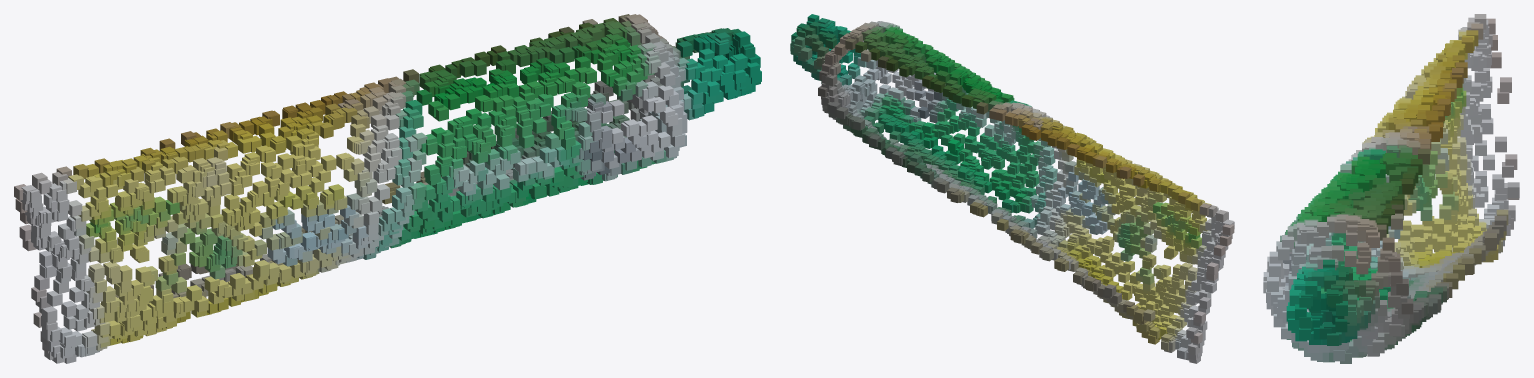
The model's file is toothpaste.glb.
The picture shows the model from 3 angles, left to right: view 1: azimuth 30°, elevation 25°; view 2: azimuth 150°, elevation 25°; view 3: azimuth 270°, elevation 25°; orthographic projection. The views are drawn at different scales.
Parts seen in each view (by area): view 1: world; view 2: world; view 3: world.
Part boxes in pixels (box(x1,y1,x2,y2)): world: box(14, 14, 761, 363); world: box(790, 14, 1234, 363); world: box(1263, 14, 1519, 363).
Bounding box in the file's own units: 0.1994 × 0.0779 × 0.0646.
